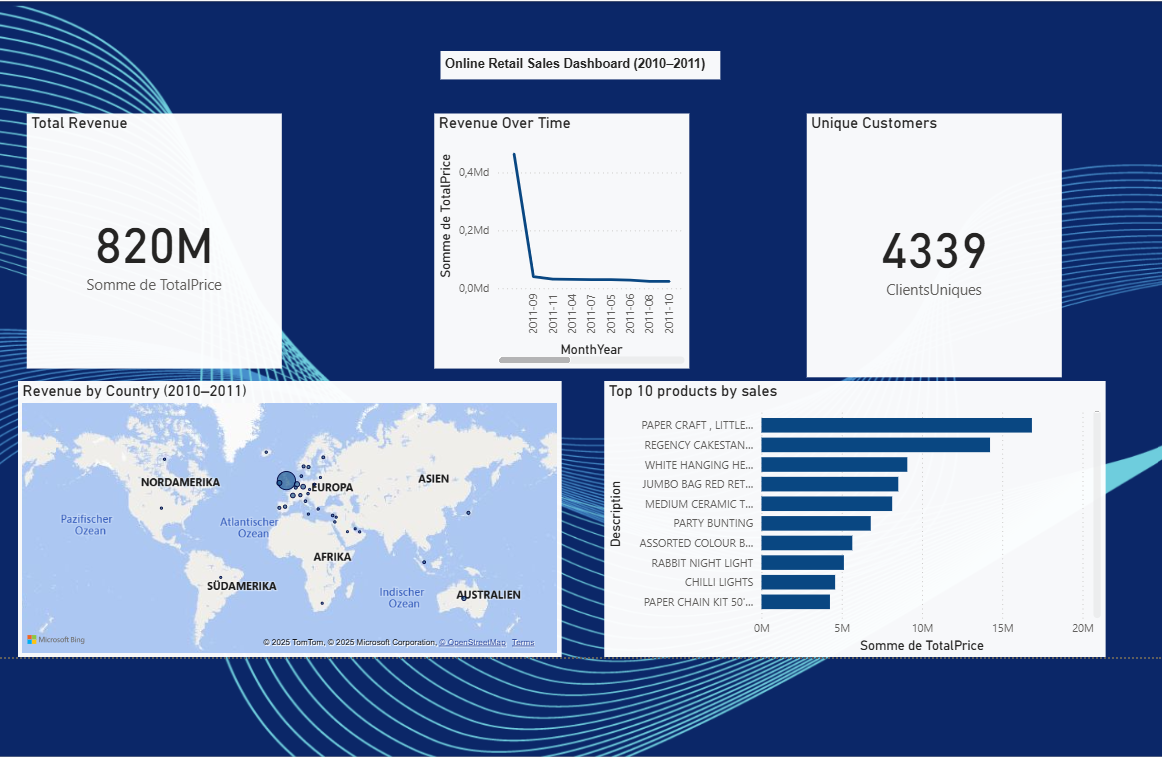

Layout of this report page (visuals, bound fields, positions):
{"tool":"powerbi","page":{"name":"Page 1","canvas":[1280,720],"ordinal":0},"visuals":[{"type":"card","title":"\tTotal Revenue","fields":{"Values":["Sum(data.TotalPrice)"]},"box":[31.6,123.5,279.9,279.9],"z":0},{"type":"barChart","title":"Top 10 products by sales","fields":{"Category":["data.Description"],"Y":["Sum(data.TotalPrice)"]},"box":[665.5,417.2,550.3,303.3],"z":1000},{"type":"map","title":"Revenue by Country (2010–2011)","fields":{"Category":["data.Country"],"Size":["Sum(data.TotalPrice)"]},"box":[22,417.2,596.9,303.3],"z":2000},{"type":"lineChart","title":"Revenue Over Time","fields":{"Category":["data.MonthYear"],"Y":["Sum(data.TotalPrice)"]},"box":[478.9,123.5,279.9,279.9],"z":3000},{"type":"card","title":"Unique Customers","fields":{"Values":["data.ClientsUniques"]},"box":[887.8,123.5,279.9,289.5],"z":4000},{"type":"textbox","box":[485.8,54.9,307.4,31.6],"z":4001}]}

Visuals, with their boxes in screenshot pixels (x1, y1, x2, y2):
"	Total Revenue" card: <region>34, 117, 285, 367</region>
"Top 10 products by sales" barChart: <region>602, 380, 1095, 651</region>
"Revenue by Country (2010–2011)" map: <region>26, 380, 560, 651</region>
"Revenue Over Time" lineChart: <region>435, 117, 685, 367</region>
"Unique Customers" card: <region>801, 117, 1051, 376</region>
textbox: <region>441, 55, 716, 83</region>
